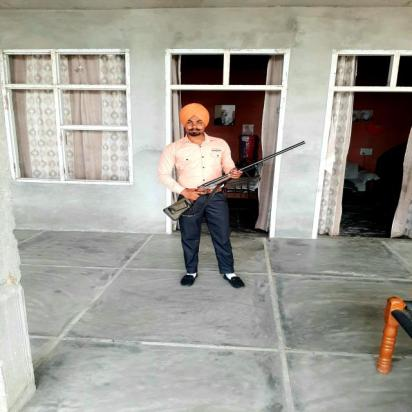Gun: (162, 138, 308, 223)
